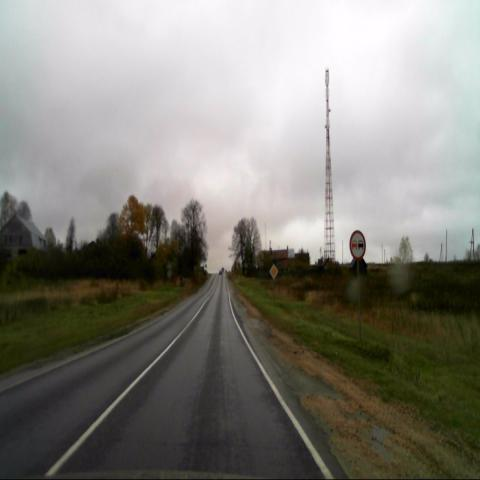2_1: (270, 263, 278, 279)
3_20: (350, 229, 366, 259)
